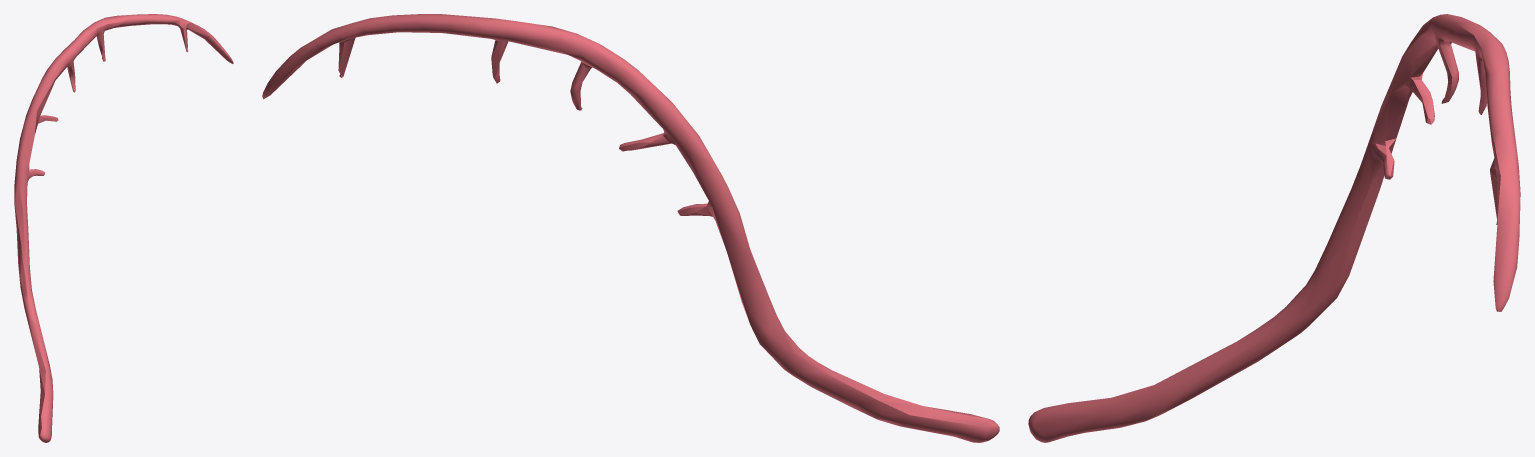
File: fma69266_fj3467.glb
3 renders of one model, left to right at view 1: azimuth 30°, elevation 25°; view 2: azimuth 150°, elevation 25°; view 3: azimuth 270°, elevation 25°, orthographic. The views are drawn at different scales.
Visible parts, largest first — view 1: FMA69266_FJ3467; view 2: FMA69266_FJ3467; view 3: FMA69266_FJ3467.
Part boxes in pixels (x1=…): FMA69266_FJ3467: x1=14, y1=14, x2=233, y2=442; FMA69266_FJ3467: x1=262, y1=14, x2=999, y2=442; FMA69266_FJ3467: x1=1028, y1=14, x2=1520, y2=442.
Bounding box in the file's own units: 0.0539 × 0.048 × 0.0381.
